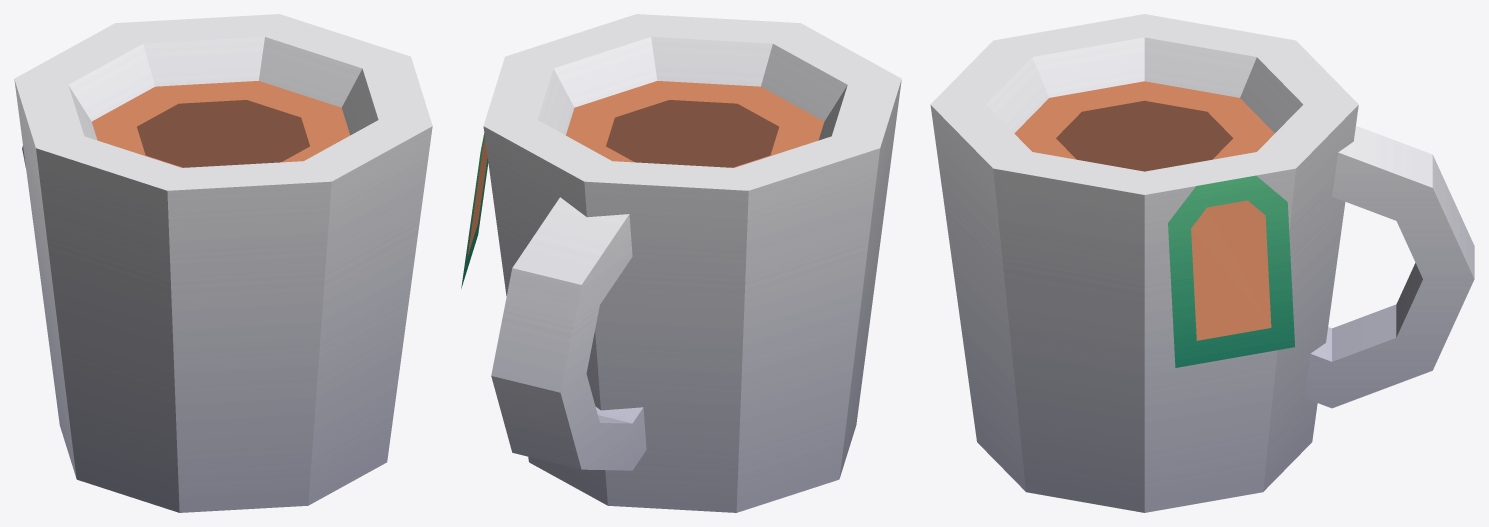
File: TeaCup.obj
The picture shows the model from 3 angles, left to right: view 1: azimuth 30°, elevation 25°; view 2: azimuth 150°, elevation 25°; view 3: azimuth 270°, elevation 25°; orthographic projection.
Visible parts, largest first — view 1: cup_tea; view 2: cup_tea; view 3: cup_tea.
Boxes of the visible parts, x1,y1,x2,y2 form: cup_tea: (14, 14, 432, 512); cup_tea: (461, 14, 901, 512); cup_tea: (930, 14, 1474, 512).
Size of the model in its own units: 0.0829 by 0.07 by 0.1022.
1 material, 1 textured.
